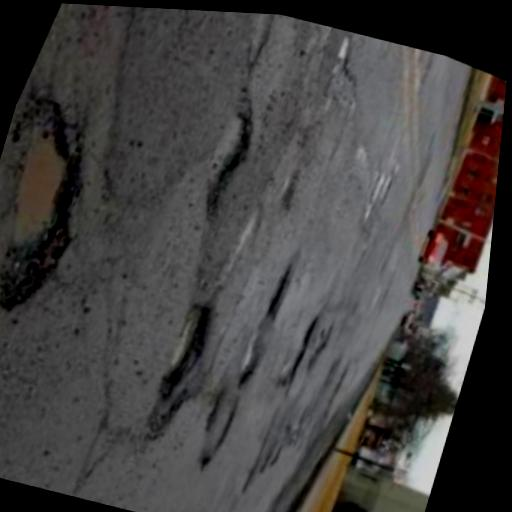pothole: (0, 99, 80, 310), (146, 302, 217, 435), (205, 109, 253, 217)
